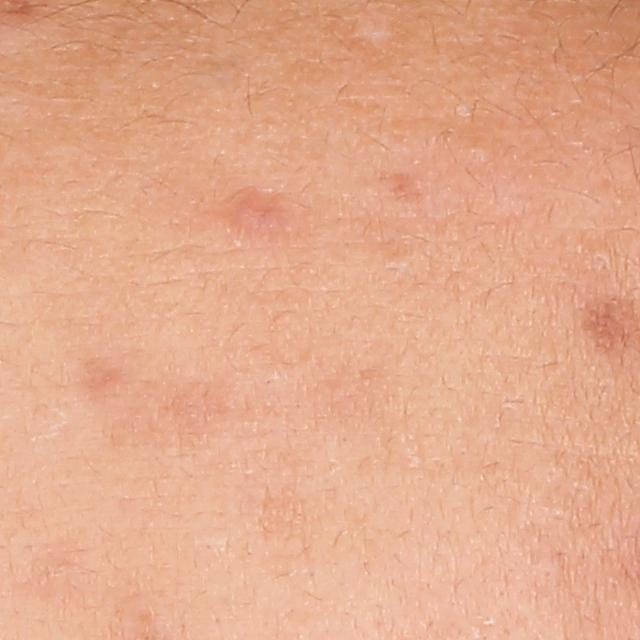comedo: (469, 138, 496, 166)
